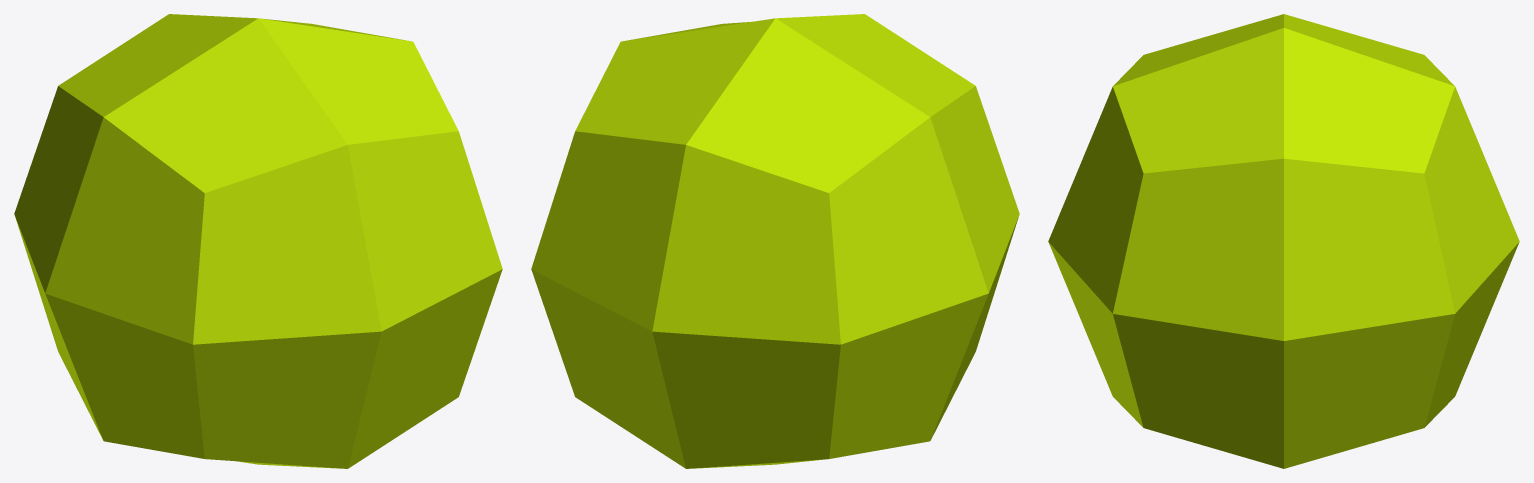
Rendered from round-black-yellow.glb.
3 views of the same model, side by side, from view 1: azimuth 30°, elevation 25°; view 2: azimuth 150°, elevation 25°; view 3: azimuth 270°, elevation 25° (orthographic). The views are drawn at different scales.
Visible parts, largest first — view 1: Cube; view 2: Cube; view 3: Cube.
Part boxes in pixels (x1,y1,x2,y2): Cube: (14,14,502,468); Cube: (531,14,1019,468); Cube: (1048,14,1519,468).
Bounding box in the file's own units: 1.68 × 1.68 × 1.68.
